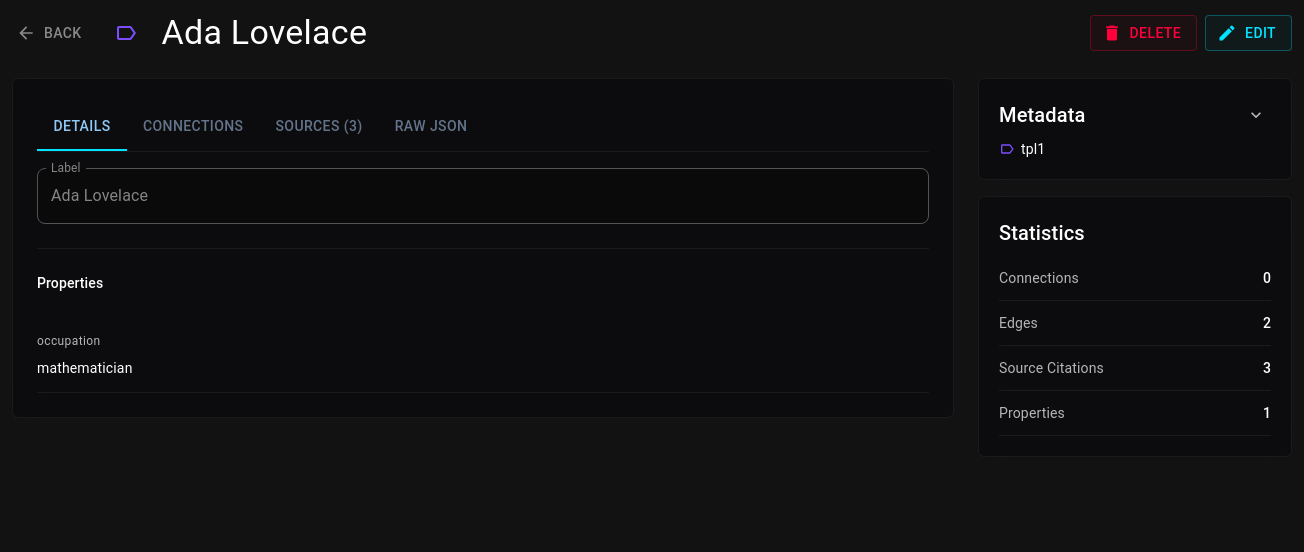
Test: NodeDetailPage › keeps the detail page (not the full-page error) when a save fails
Expected: the heading "Ada Lovelace" is shown, left=162, top=12, right=367, bottom=54
Click the button "Edit" at (1249, 33), box left=1205, top=15, right=1292, bottom=51
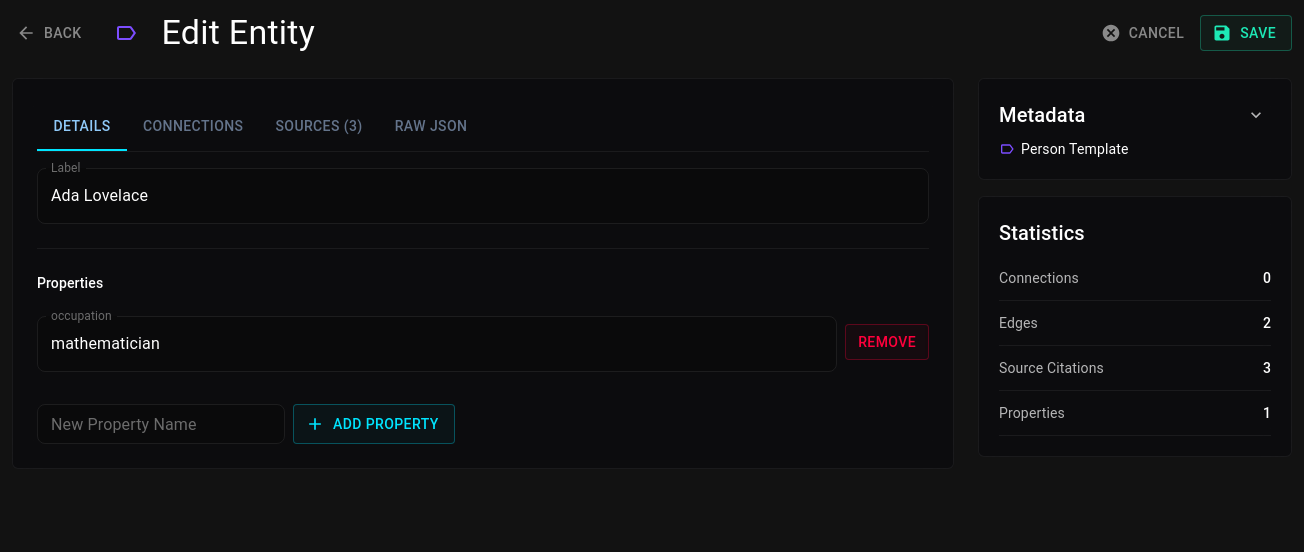
Replace the text in the field labelled "Label" with "Grace Hopper" at (483, 196), box left=37, top=168, right=929, bottom=224
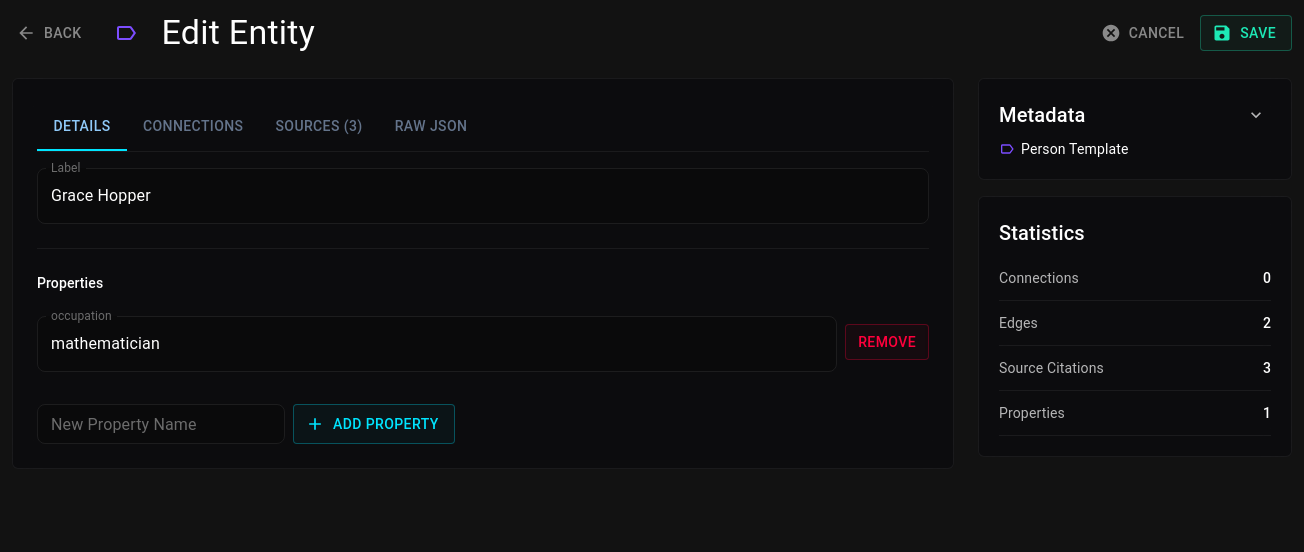
Click the button "Save" at (1246, 33), box left=1200, top=15, right=1292, bottom=51
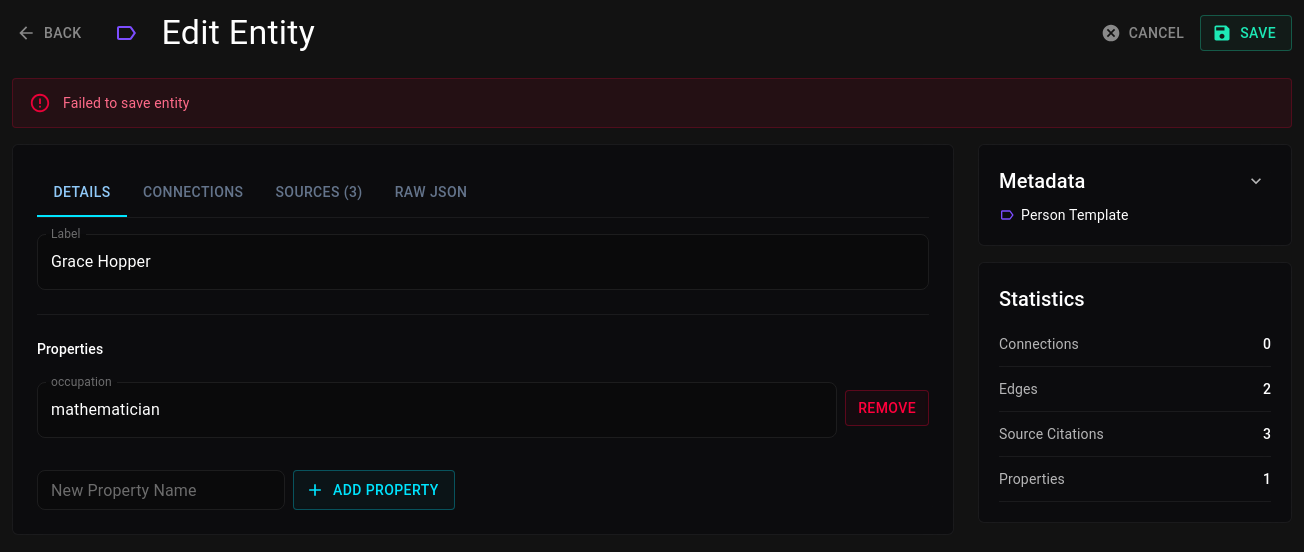
Now the text "Failed to save entity" is shown, box left=63, top=95, right=190, bottom=111
